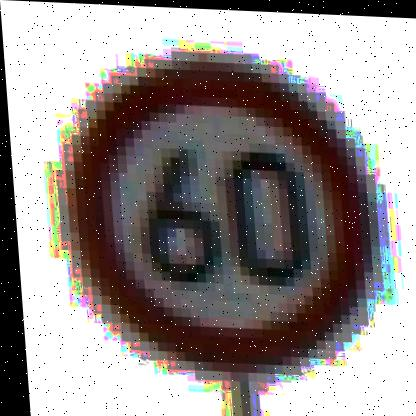Speed Limit -60-: (43, 36, 389, 377)
